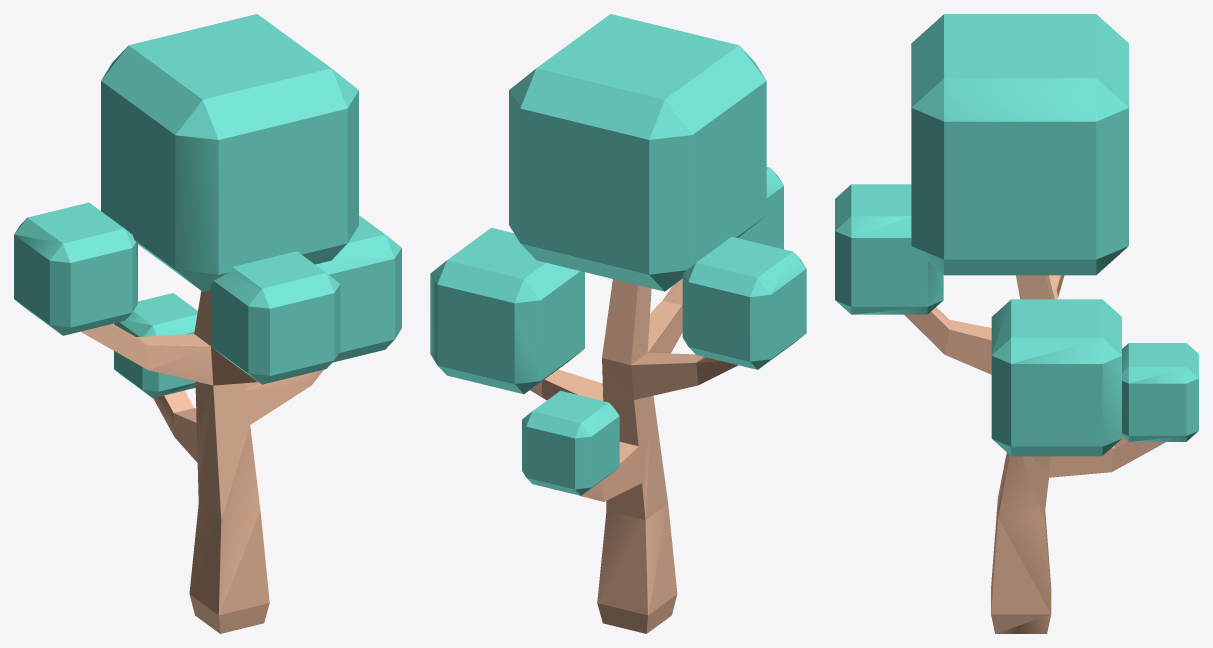
The model's file is tree_detailed.glb.
The picture shows the model from 3 angles, left to right: view 1: azimuth 30°, elevation 25°; view 2: azimuth 150°, elevation 25°; view 3: azimuth 270°, elevation 25°; orthographic projection. The views are drawn at different scales.
Visible parts, largest first — view 1: tree_detailed; view 2: tree_detailed; view 3: tree_detailed.
Part boxes in pixels (<box>): tree_detailed: <box>14,14,401,633</box>; tree_detailed: <box>430,14,806,633</box>; tree_detailed: <box>835,14,1198,633</box>.
Bounding box in the file's own units: 0.8471 × 1.33 × 0.7616.
